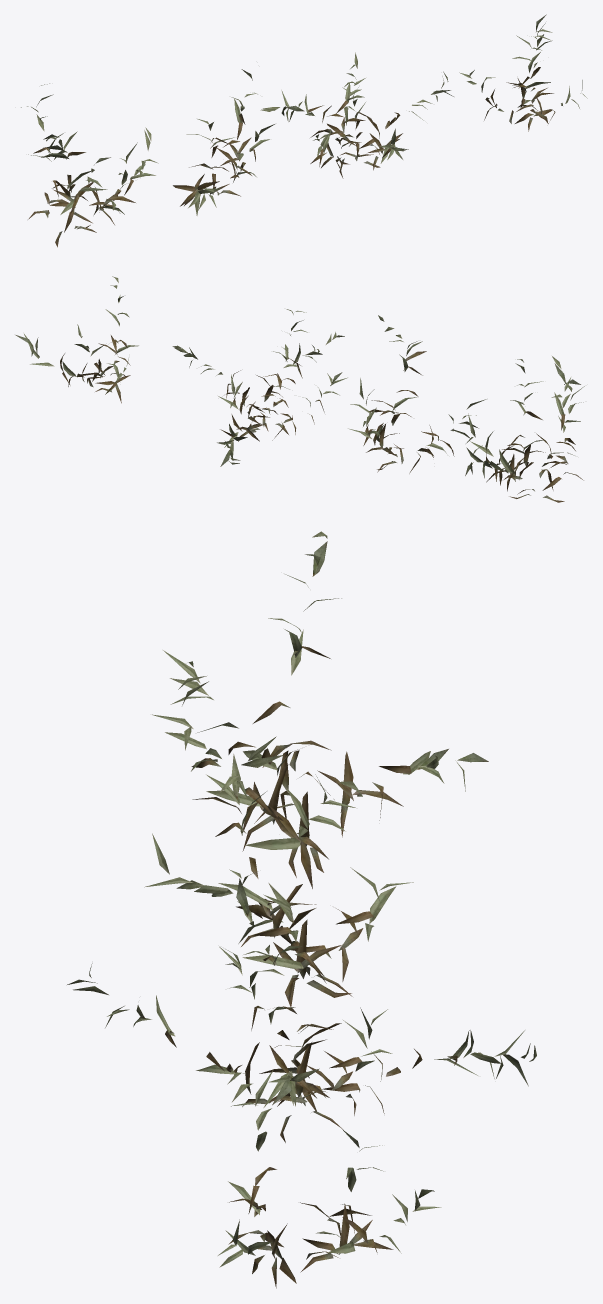
The model's file is buisson_sauvage_lod2.glb.
3 views of the same model, one above another, from view 1: azimuth 30°, elevation 25°; view 2: azimuth 150°, elevation 25°; view 3: azimuth 270°, elevation 25° (orthographic). The views are drawn at different scales.
Visible parts, largest first — view 1: shrub_02_a; view 2: shrub_02_a; view 3: shrub_02_a.
Boxes of the visible parts, <box> form: shrub_02_a: <box>21,14,587,247</box>; shrub_02_a: <box>15,276,584,502</box>; shrub_02_a: <box>67,531,536,1288</box>.
Size of the model in its own units: 6.11 by 1.65 by 2.3.
1 material, 1 textured.
